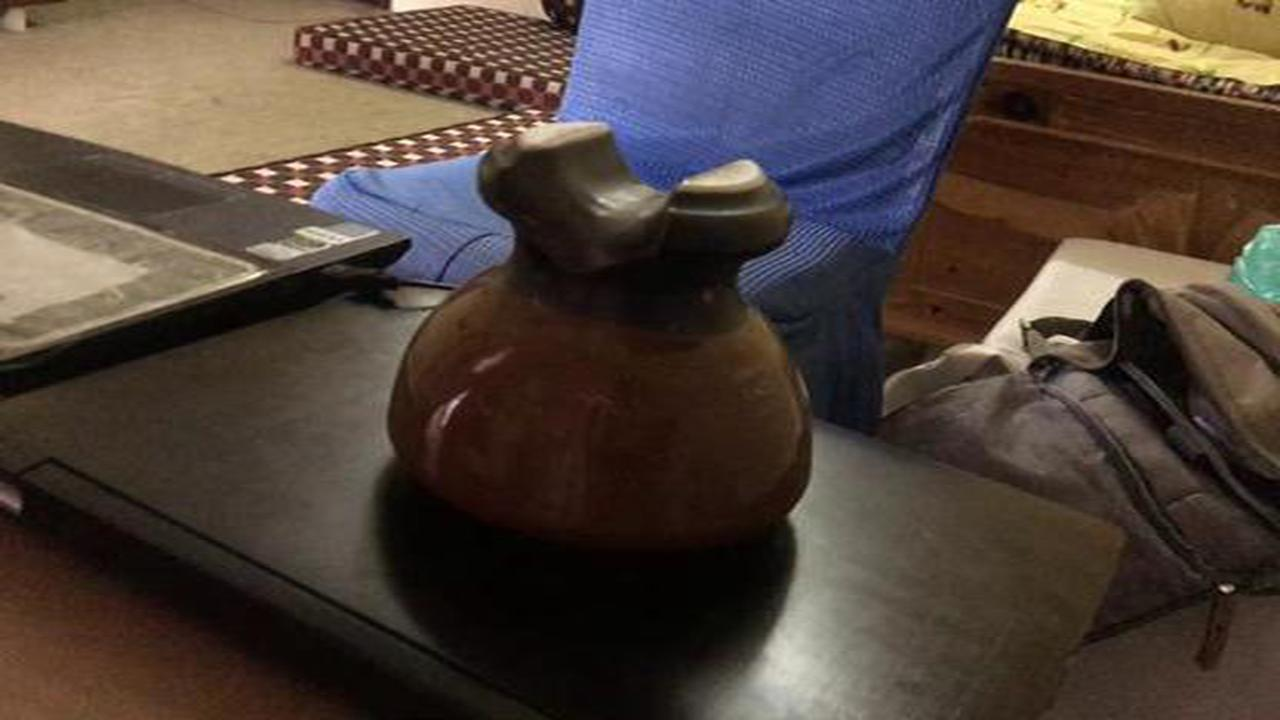insulator_pin: (356, 111, 856, 572)
